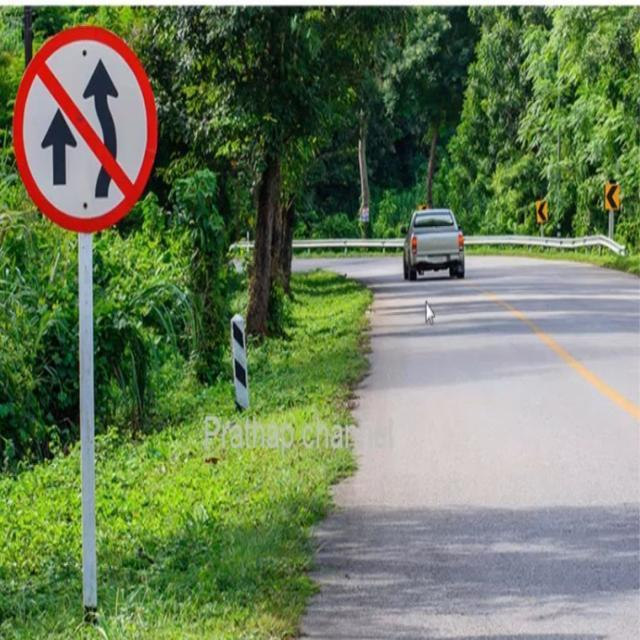overtaking prohibited: (13, 26, 156, 232)
